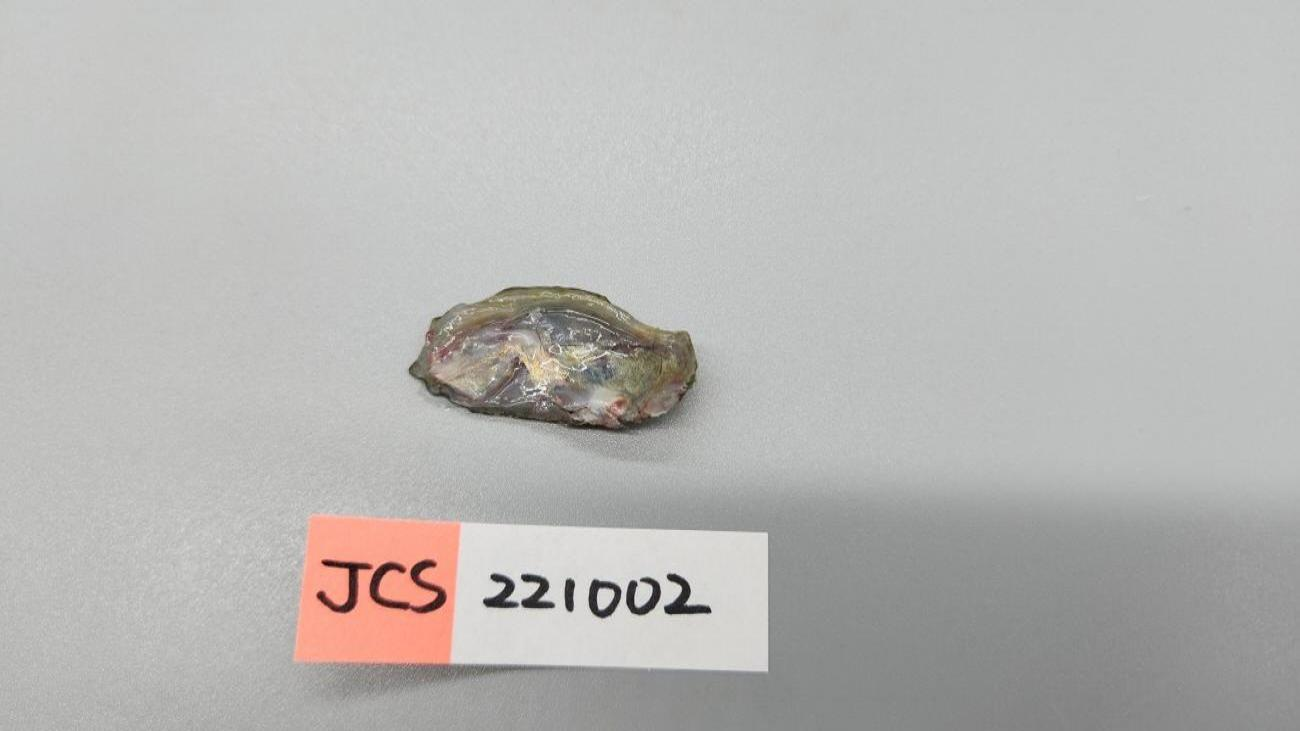POGCN: (411, 288, 698, 426)
